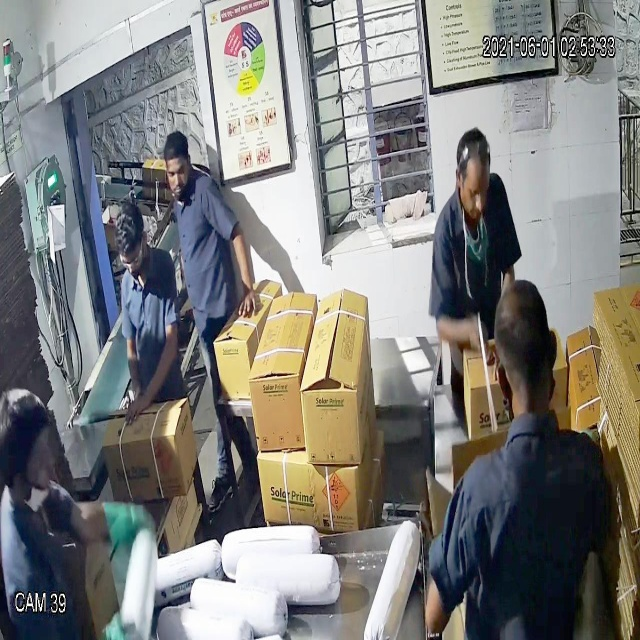Gafas: (114, 242, 155, 280)
Sin_gafas: (450, 164, 495, 211)
